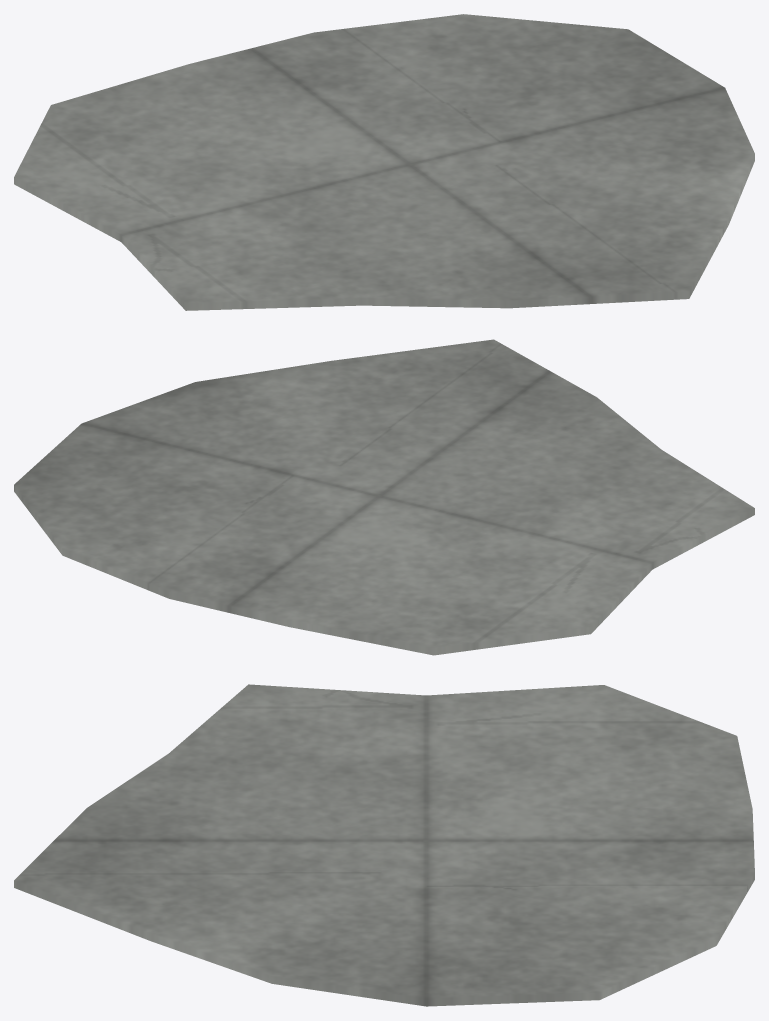
Rendered from RES_PavementPatch_1m.obj.
The picture shows the model from 3 angles, top to bottom: view 1: azimuth 30°, elevation 25°; view 2: azimuth 150°, elevation 25°; view 3: azimuth 270°, elevation 25°; orthographic projection. The views are drawn at different scales.
Parts seen in each view (by area): view 1: RES_PavementPatch_1m; view 2: RES_PavementPatch_1m; view 3: RES_PavementPatch_1m.
Part boxes in pixels (x1,y1,x2,y2): RES_PavementPatch_1m: [14, 14, 754, 310]; RES_PavementPatch_1m: [14, 339, 754, 655]; RES_PavementPatch_1m: [14, 684, 754, 1006].
Bounding box in the file's own units: 1.09 × 0.012 × 1.08.
Materials: 1 (1 with a texture image).
